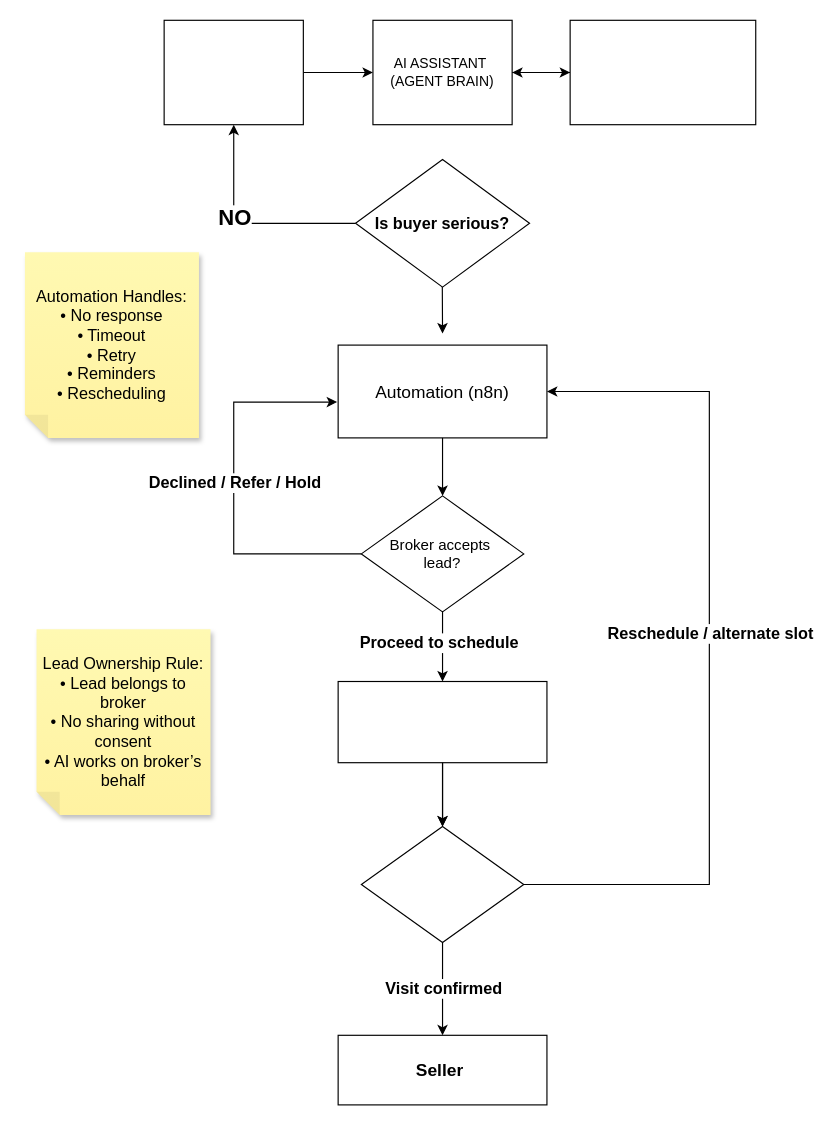
Image size: 833x1125. Some labels were removed from this diagram. Each missing label, with the centre of its shape:
Broker Lead owner (Control & consent required): pixel 442 721
Buyer: pixel 233 72
Rag Knowledge base (Property Data): pixel 662 72
Seller available?: pixel 442 883
